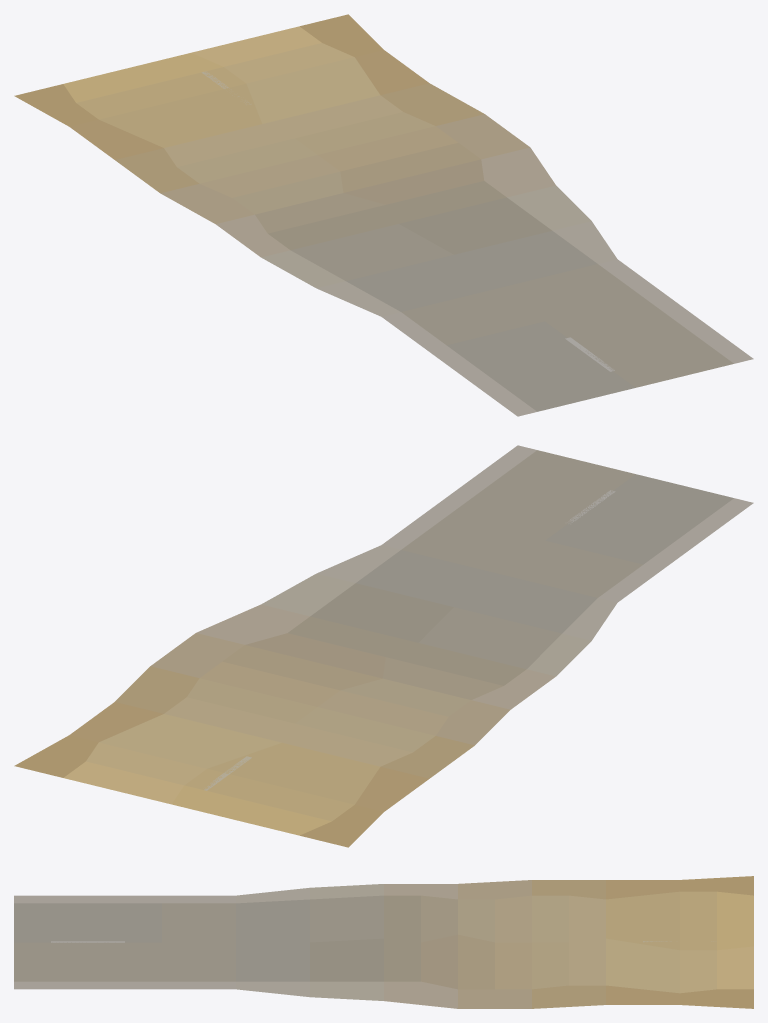
Rendered from mixnd.obj.
3 renders of one model, top to bottom at view 1: azimuth 30°, elevation 25°; view 2: azimuth 150°, elevation 25°; view 3: azimuth 270°, elevation 25°, orthographic. The views are drawn at different scales.
Size of the model in its own units: 2380 by 0 by 5600.
